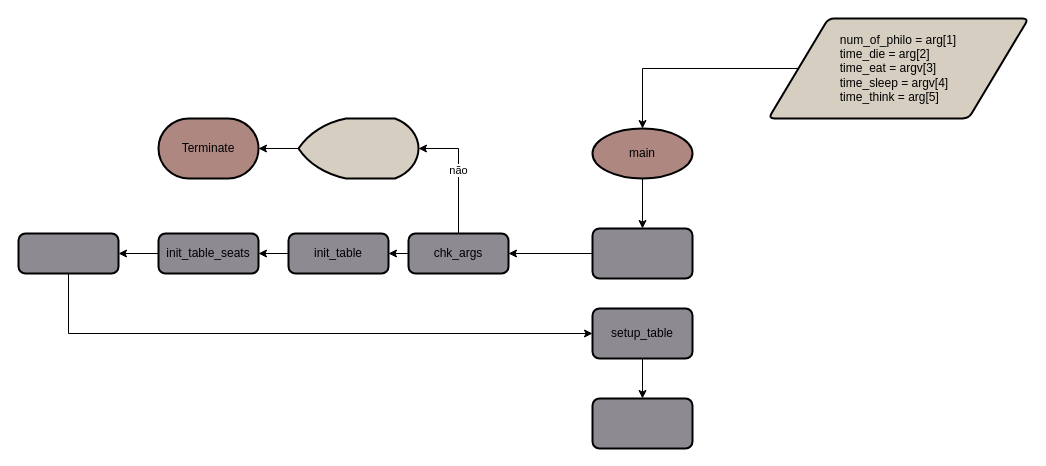
This 1046x466 diagram has some shape labels left out. The shapes that lost their labels are listed below. From the top down, each one's centre as x and y in pixels, then its label:
At pixel 358 148: "invalid arguments".
At pixel 68 253: "init_table_forks".
At pixel 642 253: "init_process".
At pixel 642 423: "create_philo".
